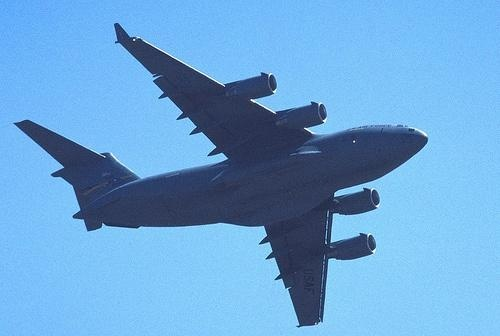aeroplane: (15, 22, 433, 328)
